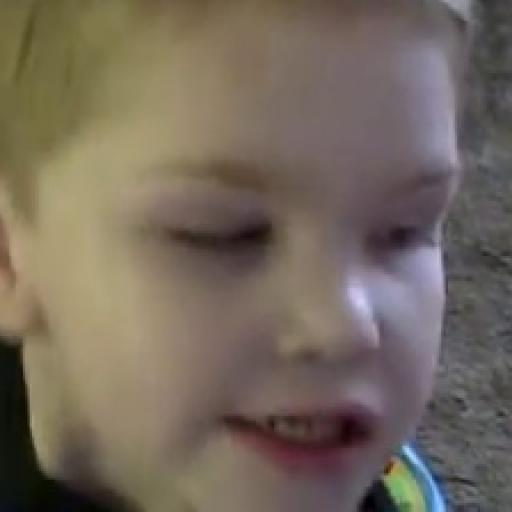Autism: (57, 36, 471, 466)
